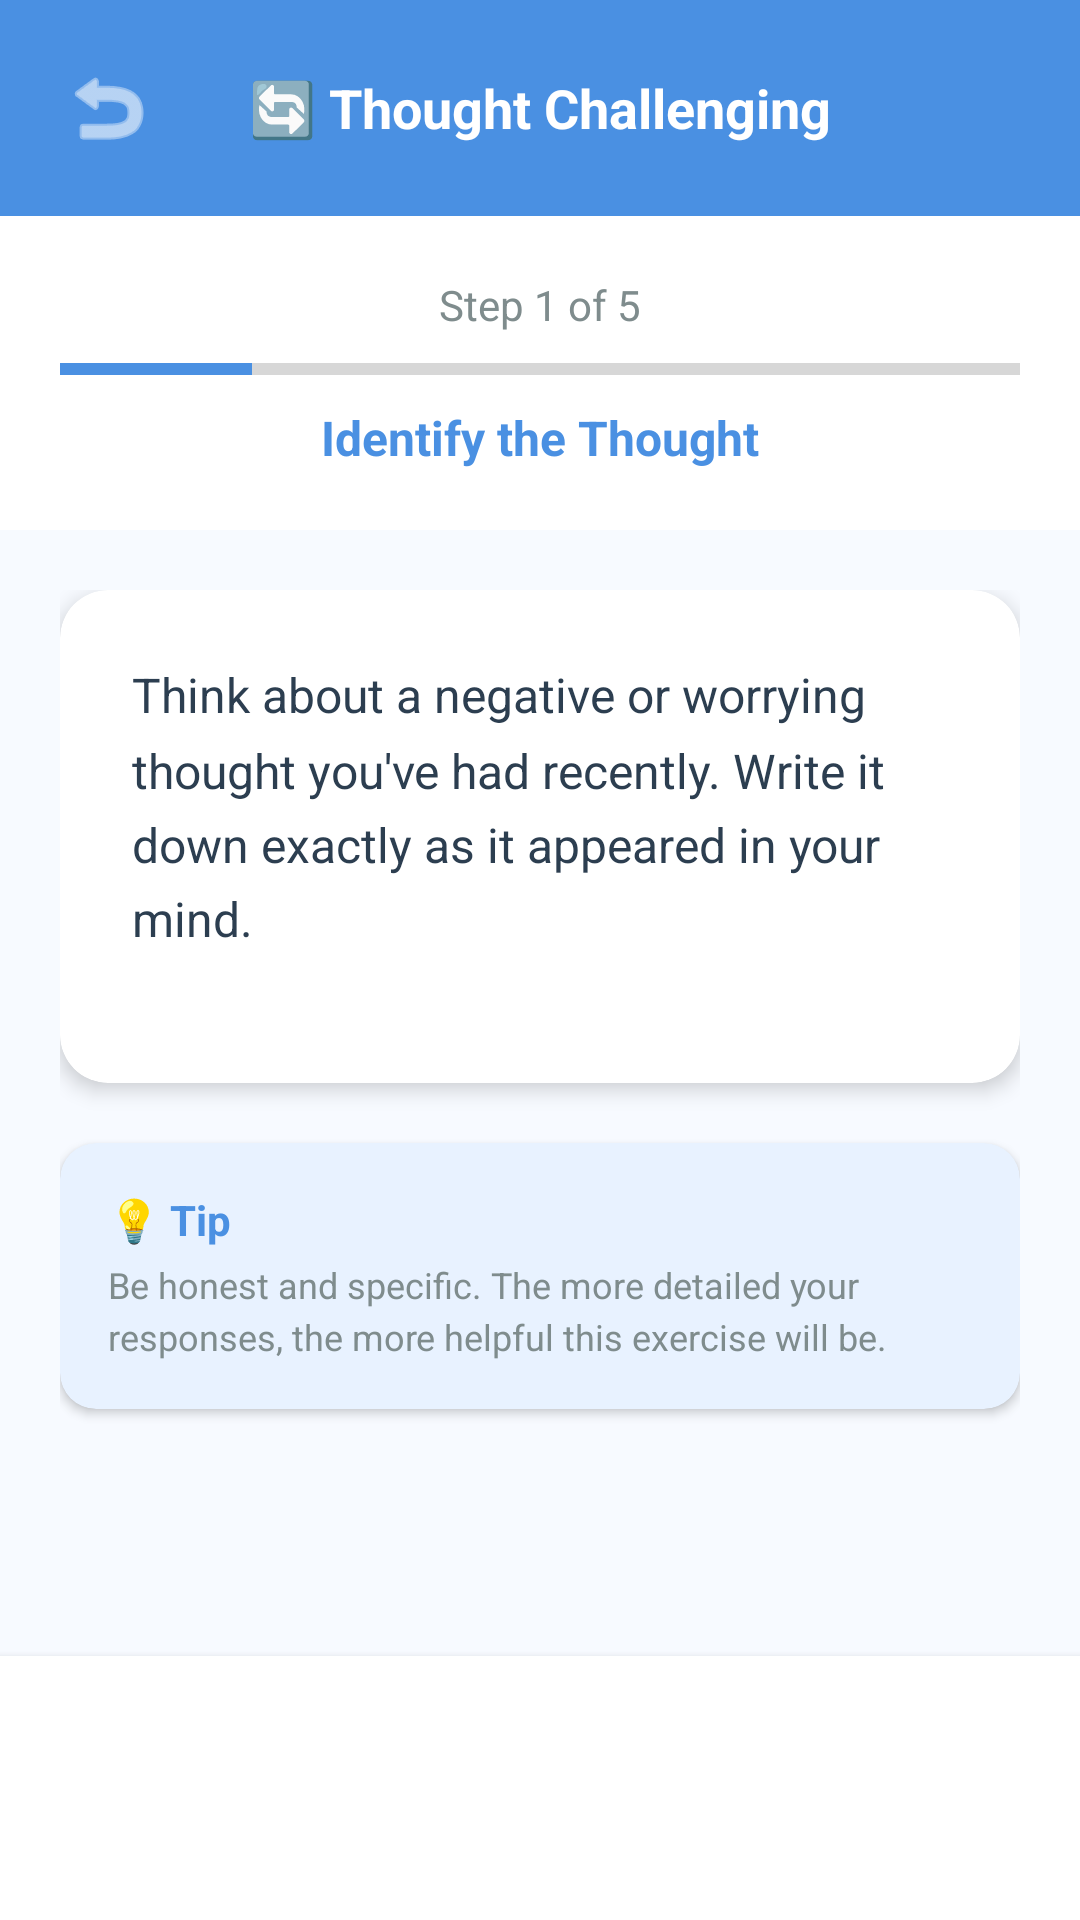

Named icons in this screenshot (1080 x 1920) and their bounding boxes, (x1, y1, x2, y2):
Back: (75, 77, 144, 140)
